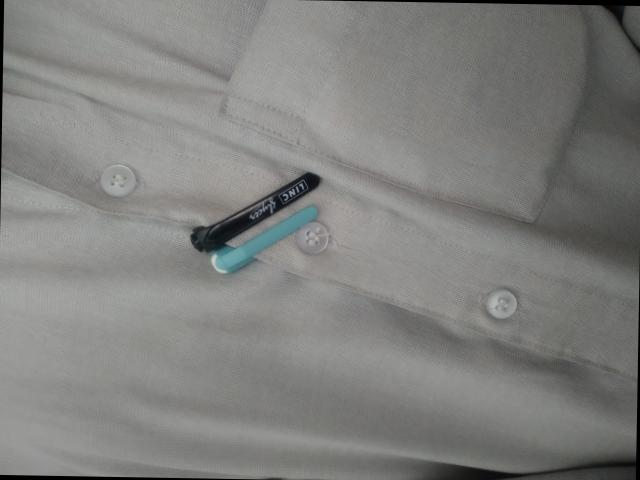PEN: (195, 175, 321, 357)
